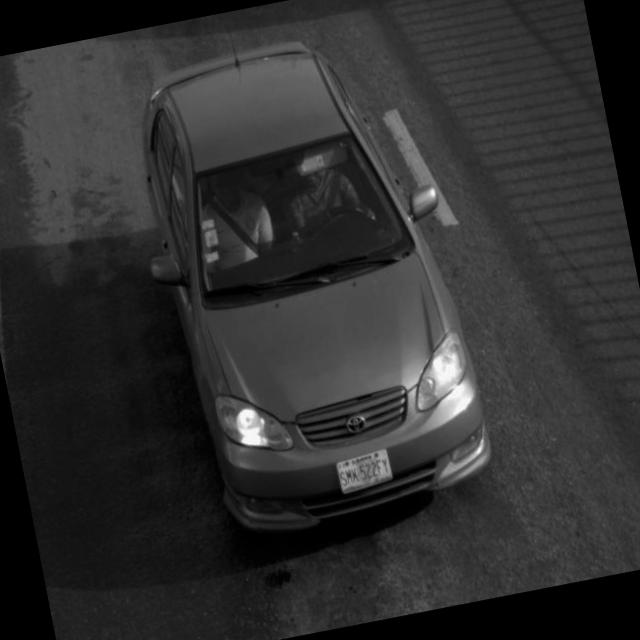person_with_seatbelt: (266, 134, 376, 260)
